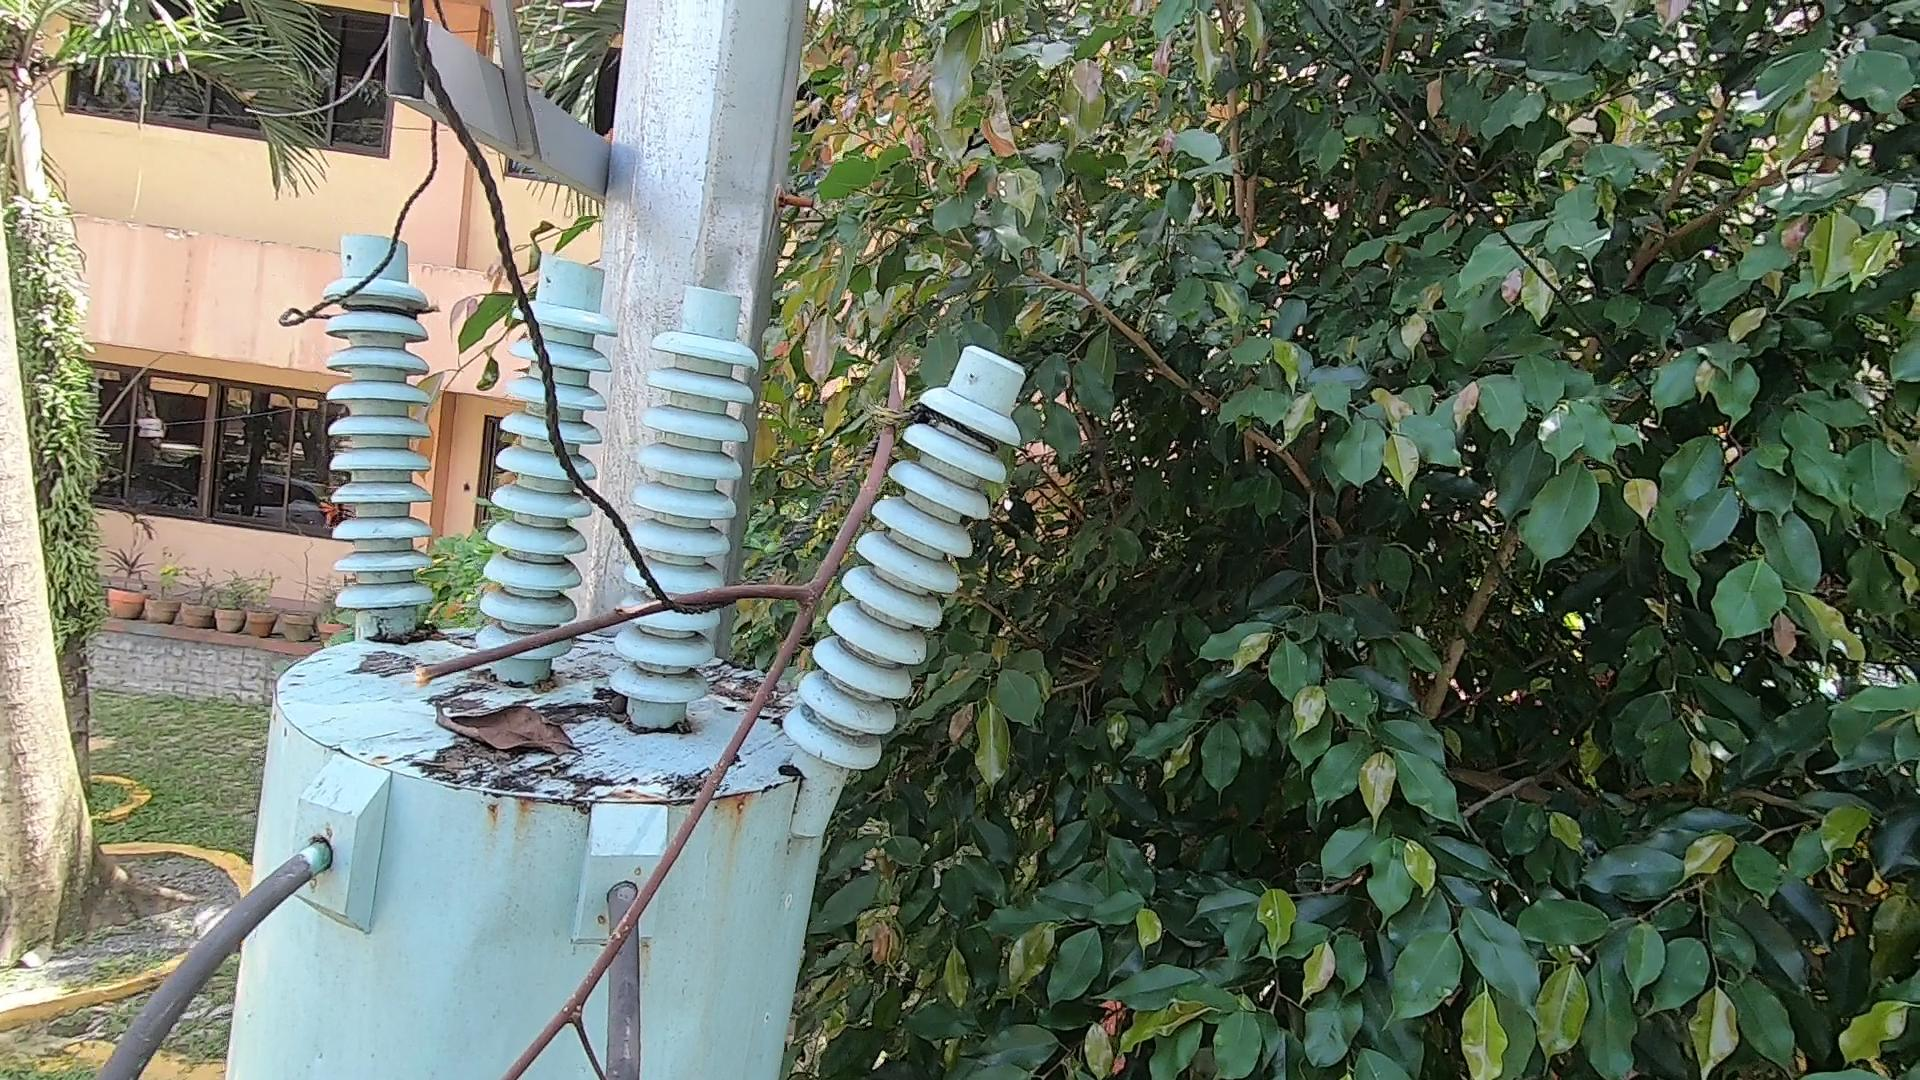leaf: (413, 680, 599, 785)
tree branch: (371, 339, 905, 1080)
